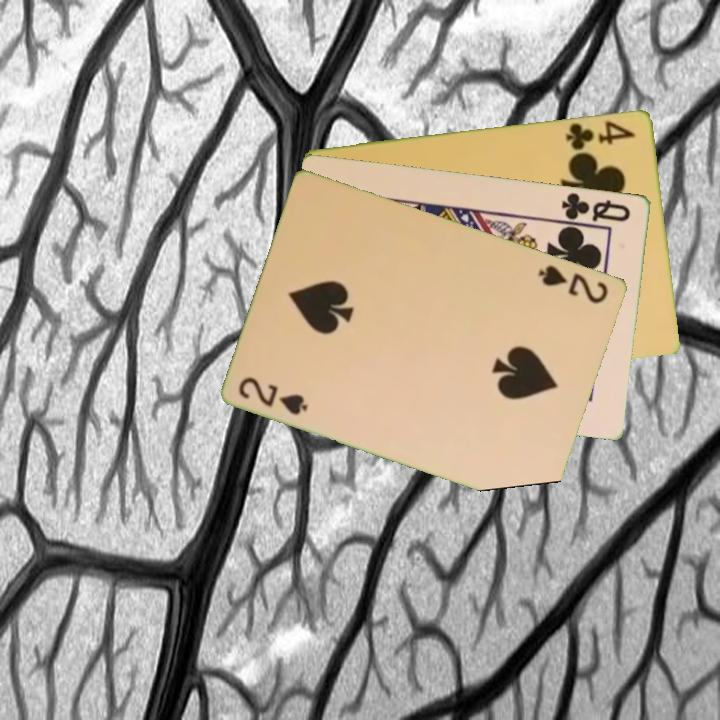2s: (535, 261, 612, 306), (235, 373, 311, 418)
4c: (562, 117, 638, 153)
Qc: (558, 188, 634, 225)
